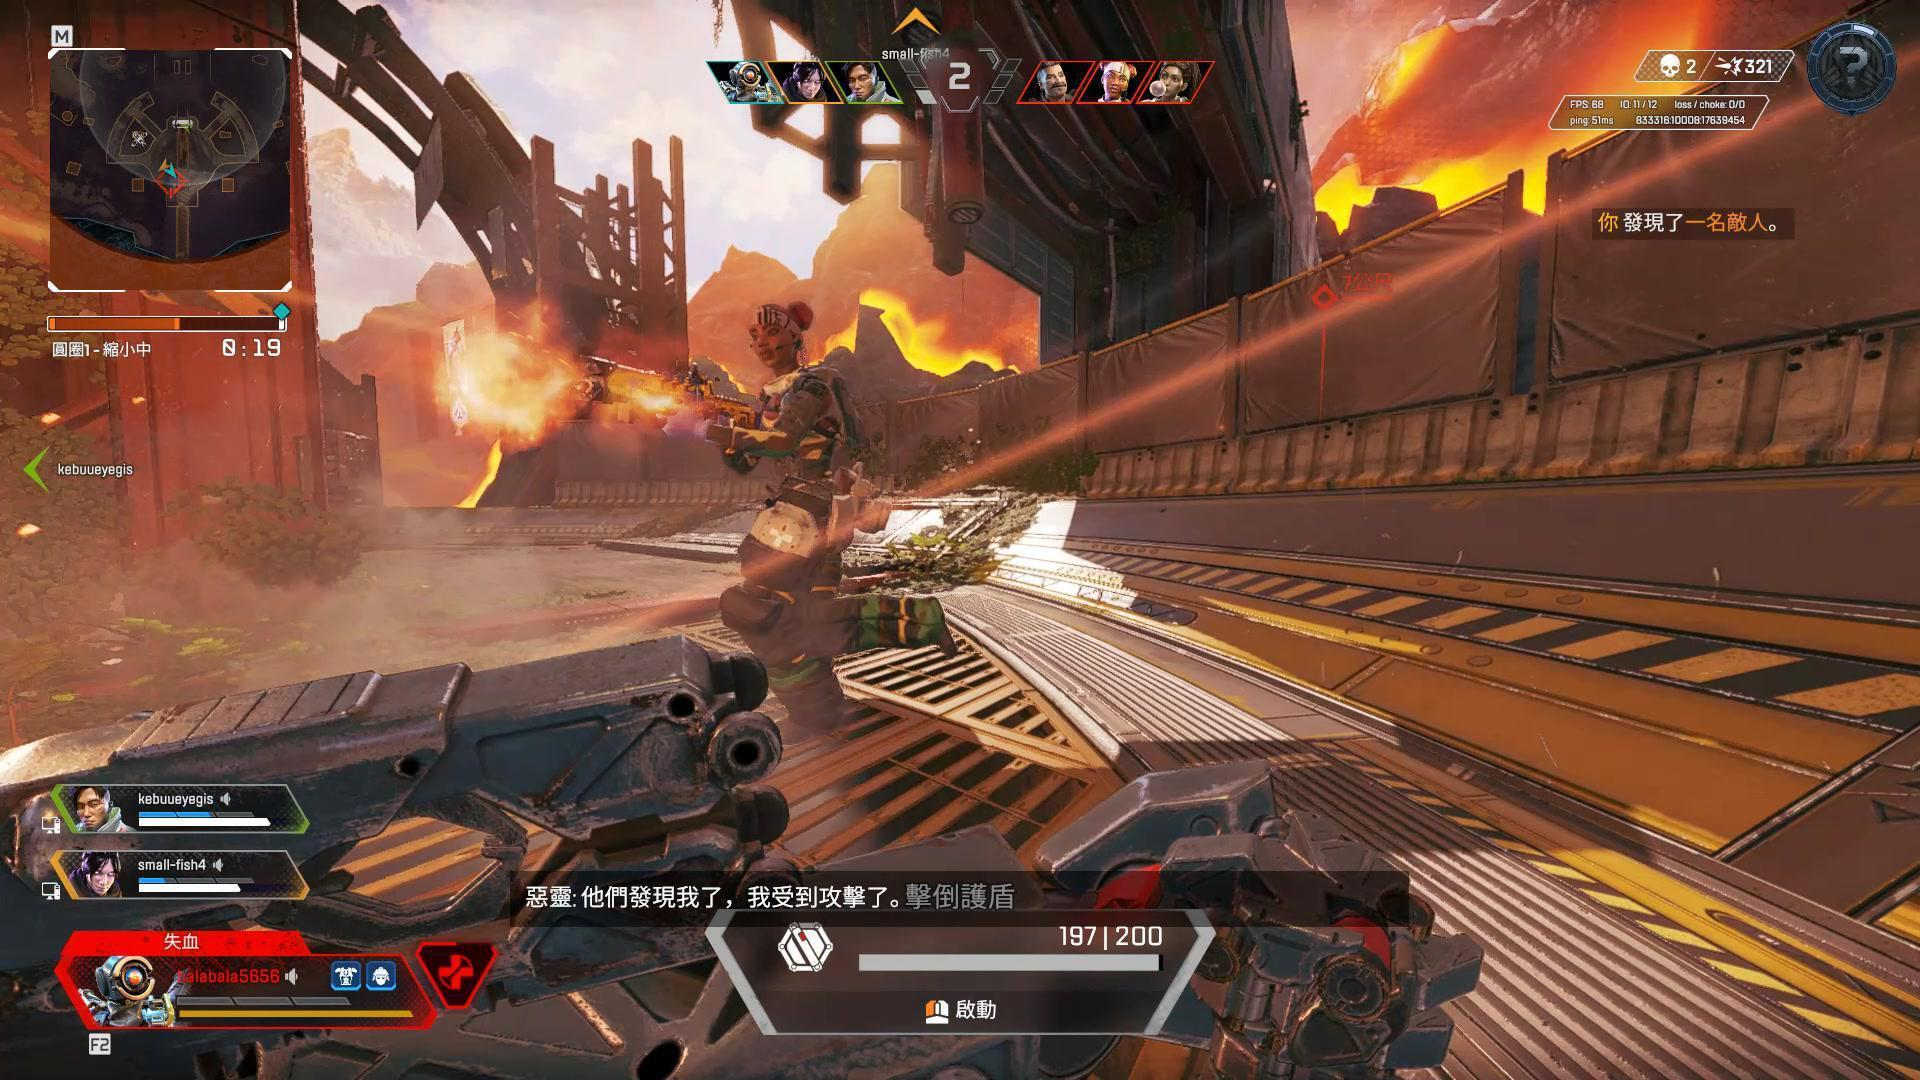avatar: (715, 298, 894, 746)
